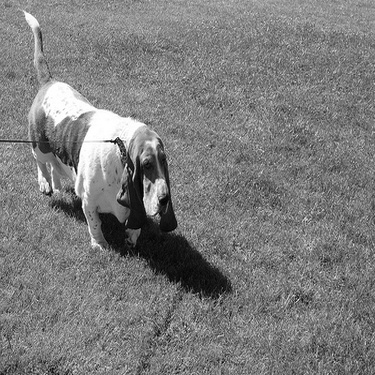dog: (7, 3, 180, 263)
